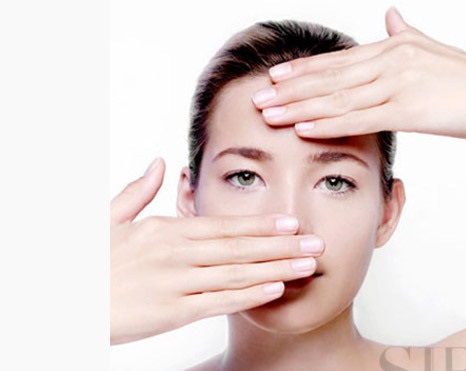face: (194, 84, 379, 312)
